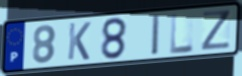8: (99, 16, 129, 61), (32, 23, 58, 65)
I: (151, 13, 162, 57)
K: (66, 21, 93, 62)
L: (170, 12, 196, 56)
Z: (199, 9, 232, 52)
